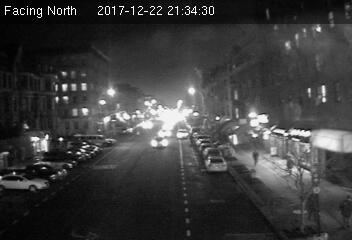car: (204, 156, 228, 172), (151, 136, 167, 148), (177, 128, 189, 139)
pedestrian: (250, 148, 260, 168)
